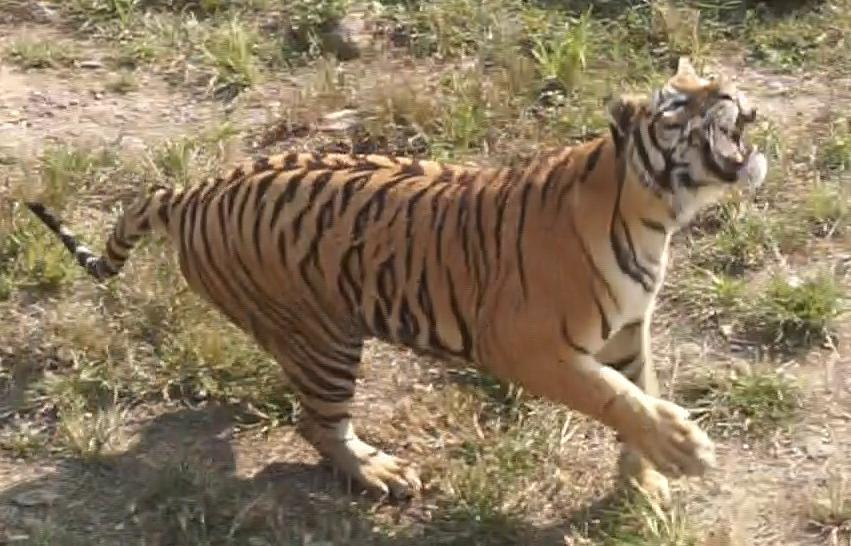tiger: (62, 61, 765, 494)
